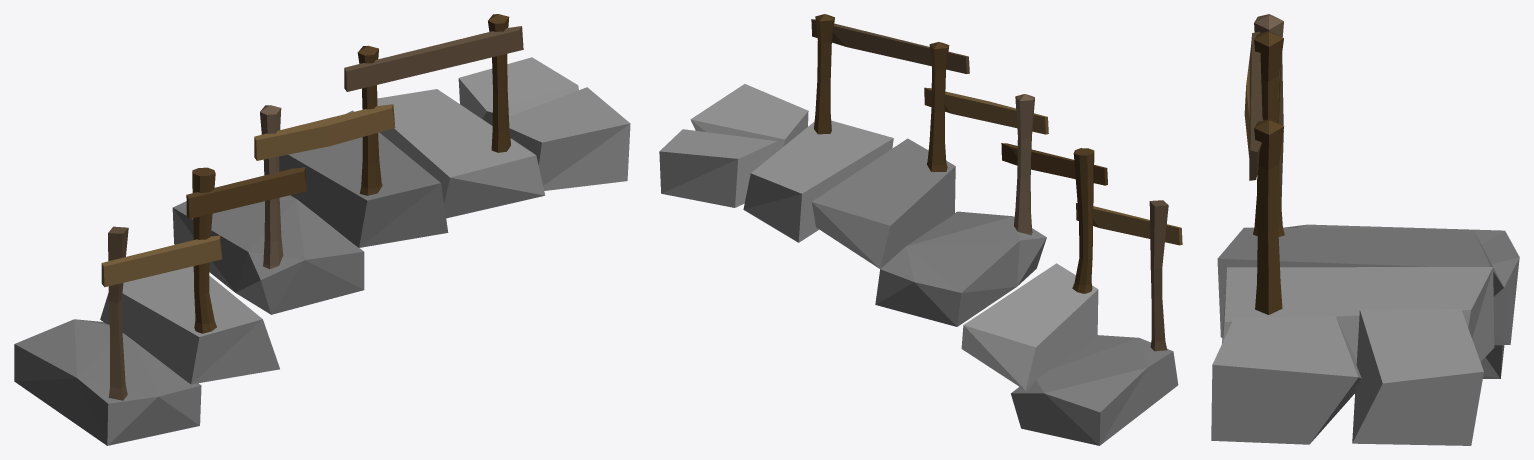
The model's file is EA03_Environment_Road_Cobble_Staris_01b.glb.
The picture shows the model from 3 angles, left to right: view 1: azimuth 30°, elevation 25°; view 2: azimuth 150°, elevation 25°; view 3: azimuth 270°, elevation 25°; orthographic projection. The views are drawn at different scales.
Visible parts, largest first — view 1: EA03_Environment_Road_Cobble_Staris_01b; view 2: EA03_Environment_Road_Cobble_Staris_01b; view 3: EA03_Environment_Road_Cobble_Staris_01b.
Boxes of the visible parts, x1,y1,x2,y2 form: EA03_Environment_Road_Cobble_Staris_01b: [14, 14, 630, 445]; EA03_Environment_Road_Cobble_Staris_01b: [659, 14, 1182, 445]; EA03_Environment_Road_Cobble_Staris_01b: [1211, 14, 1519, 445].
Bounding box in the file's own units: 5.08 × 3.12 × 1.87.
1 material, 1 textured.
